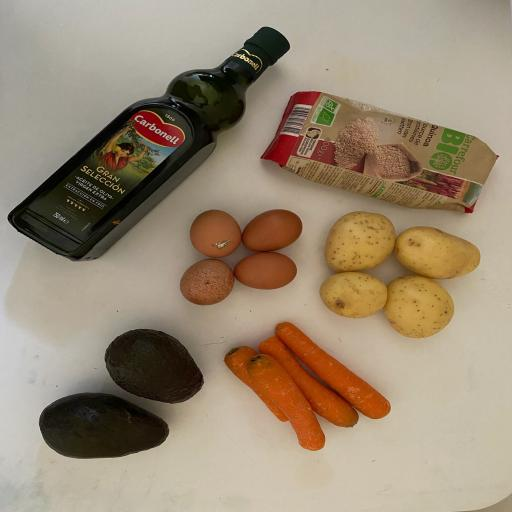avocado: (38, 390, 172, 462), (103, 325, 207, 407)
carrot: (268, 318, 396, 423), (256, 334, 362, 429), (248, 351, 329, 454), (222, 343, 290, 424)
egg: (240, 205, 304, 255), (176, 255, 236, 307), (186, 207, 242, 259), (230, 250, 300, 291)
olive_oil: (5, 23, 294, 264)
potato: (382, 272, 460, 341), (394, 225, 484, 281), (322, 209, 397, 274), (316, 270, 392, 320)
quinoa: (260, 89, 499, 216)
